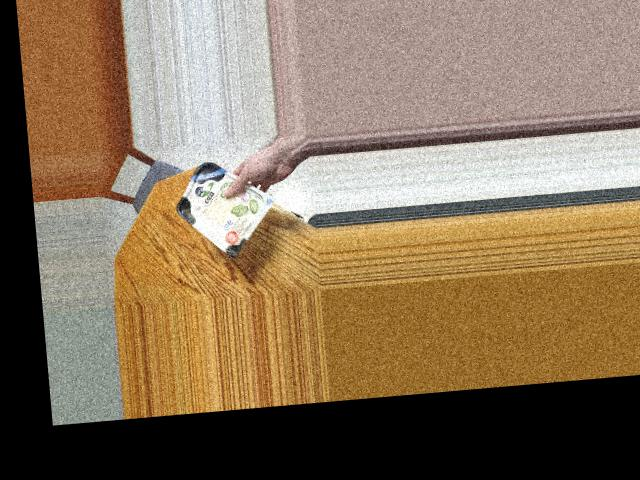cheese: (172, 165, 260, 250)
